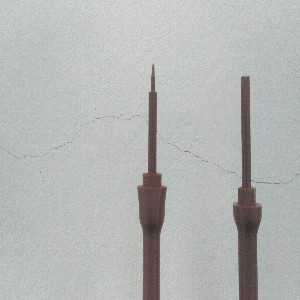obeng: (232, 75, 263, 300)
solder: (137, 62, 168, 300)
